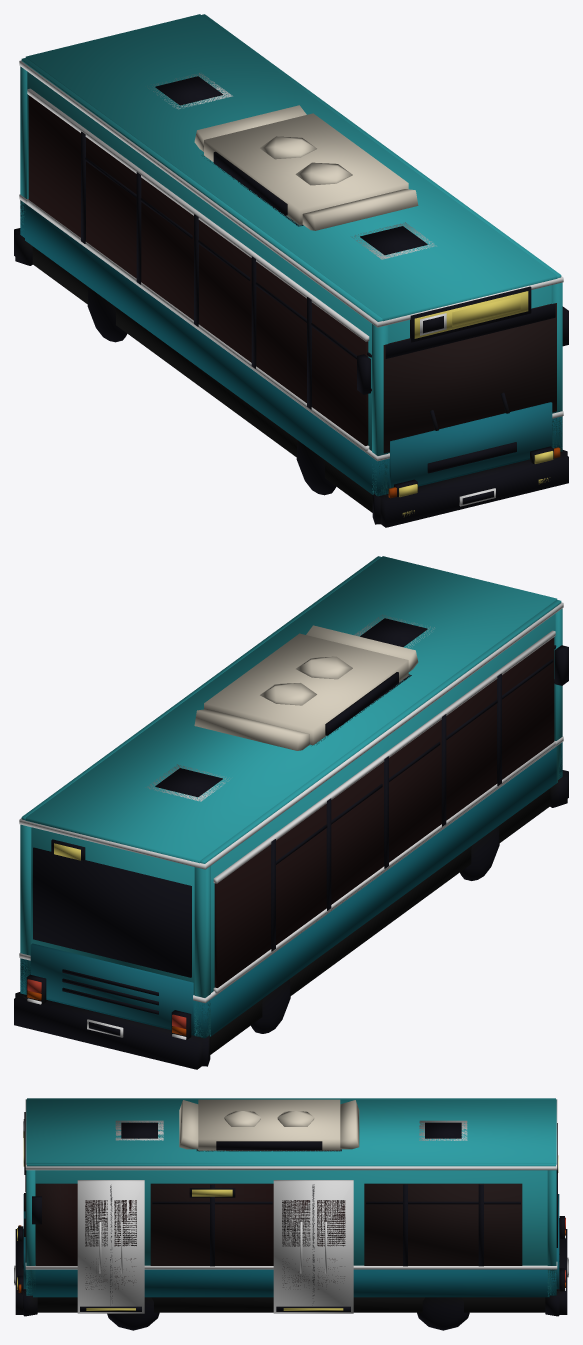
File: city_bus.glb
The picture shows the model from 3 angles, top to bottom: view 1: azimuth 30°, elevation 25°; view 2: azimuth 150°, elevation 25°; view 3: azimuth 270°, elevation 25°; orthographic projection. The views are drawn at different scales.
Parts seen in each view (by area): view 1: city_bus; view 2: city_bus; view 3: city_bus.
Part boxes in pixels (left/top/right/bottom): city_bus: left=14, top=14, right=568, bottom=527; city_bus: left=14, top=556, right=568, bottom=1069; city_bus: left=14, top=1098, right=568, bottom=1330.
Size of the model in its own units: 2.78 by 3.24 by 8.77.
